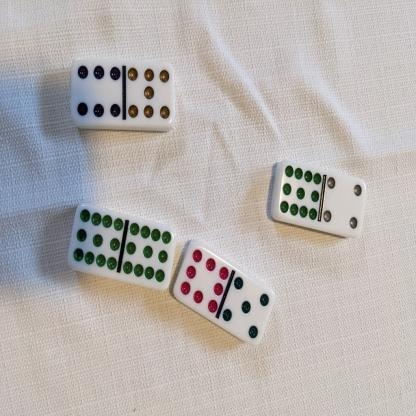pip-11: (69, 201, 124, 270), (122, 220, 174, 288), (277, 159, 322, 226)
pip-4: (321, 173, 366, 237)
pip-5: (222, 274, 274, 346)
pip-6: (70, 58, 125, 126)
pip-7: (124, 58, 173, 129)
pip-8: (174, 242, 228, 314)
